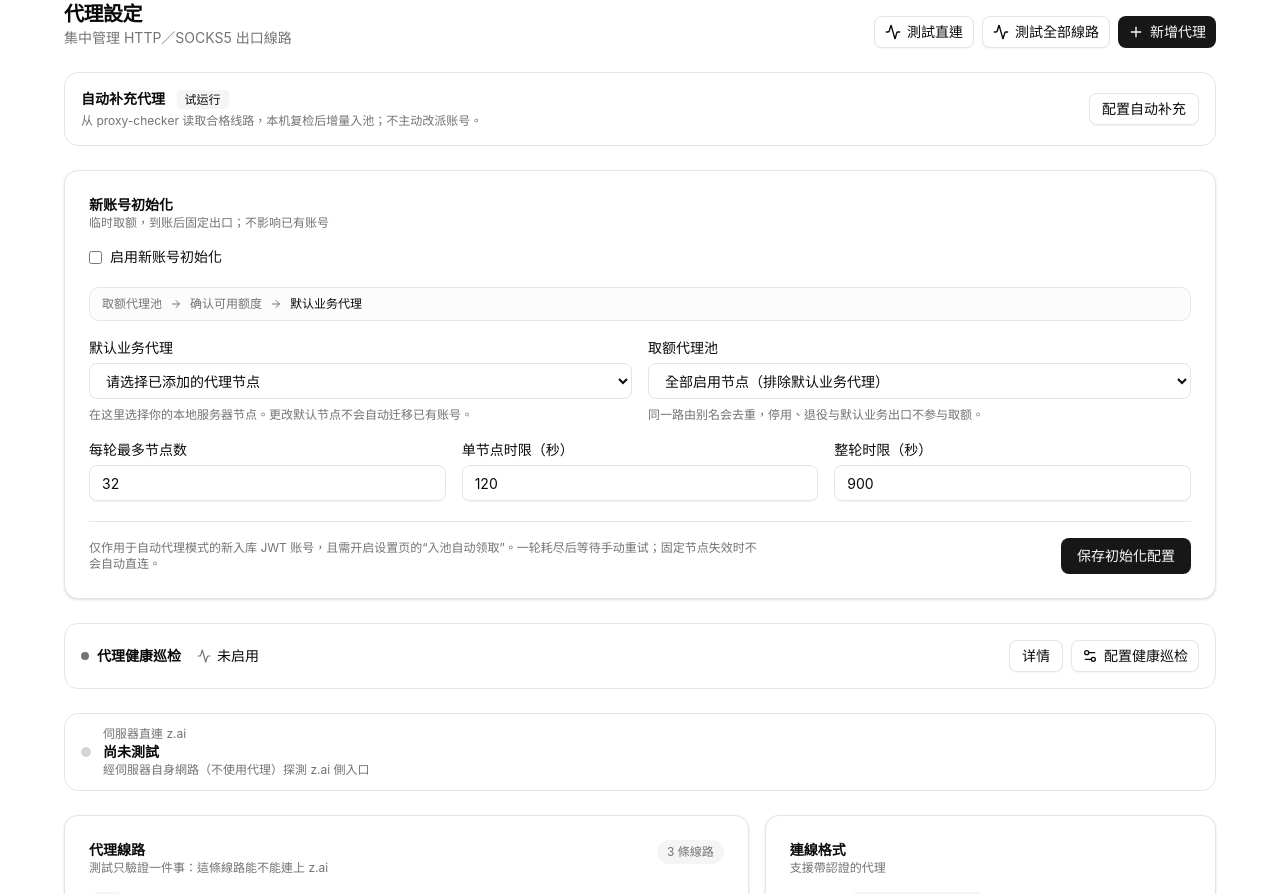
Test: 未启用和405都不能显示为模型健康，手动请求不能绕过总开关
This screenshot has width=1280, height=894.
Check: the text "未启用" is shown, box [197, 646, 259, 666]
What coordinates should you click on to do the following:
click the button "详情"
I would click on:
 (1036, 656)
Its box is [1009, 640, 1063, 672].
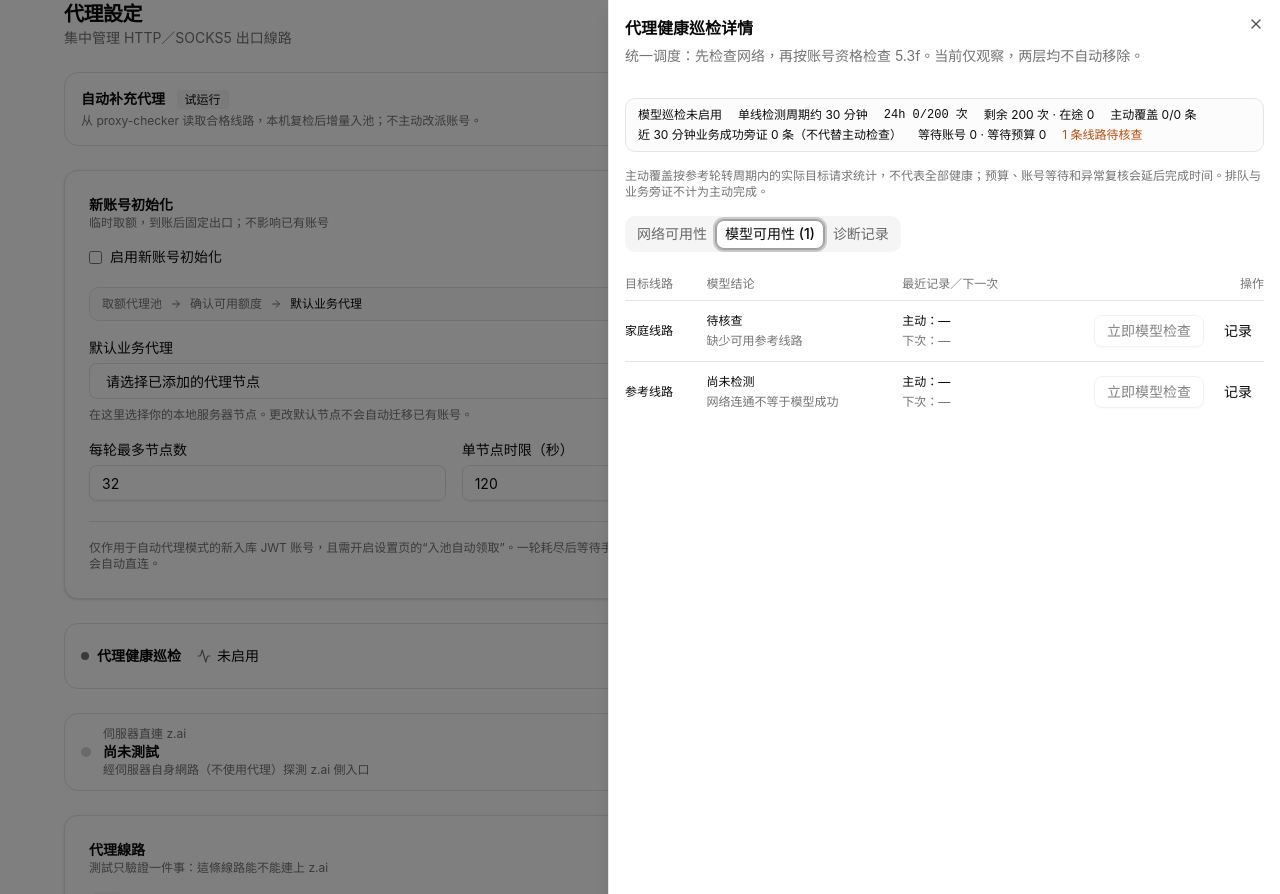
Check: the element showing "网络可用性 模型可用性 (1) 诊断记录" is shown, box [625, 216, 901, 252]
Check: the text "待核查" is shown, box [707, 313, 743, 328]
Check: the button "立即模型检查" in the row of "缺少可用参考线路" is disabled, box [1094, 315, 1204, 347]
